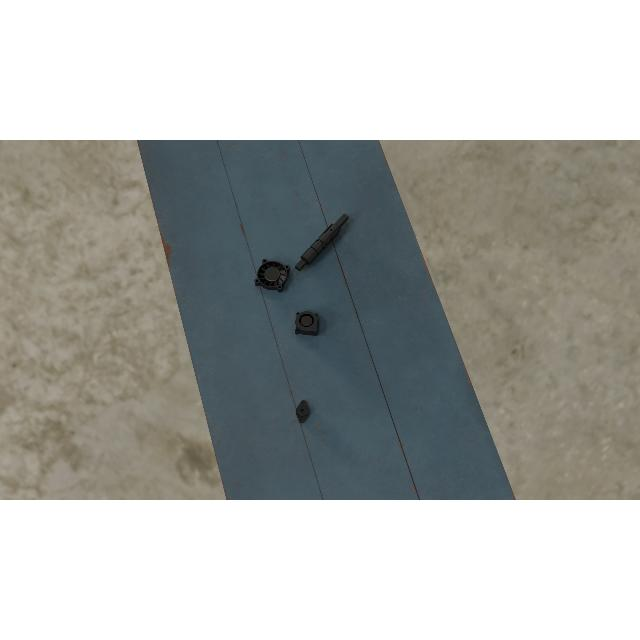Pieza1: (293, 210, 351, 274)
Pieza2: (294, 398, 310, 424)
Pieza3: (294, 310, 318, 336)
Pieza4: (253, 258, 291, 294)
